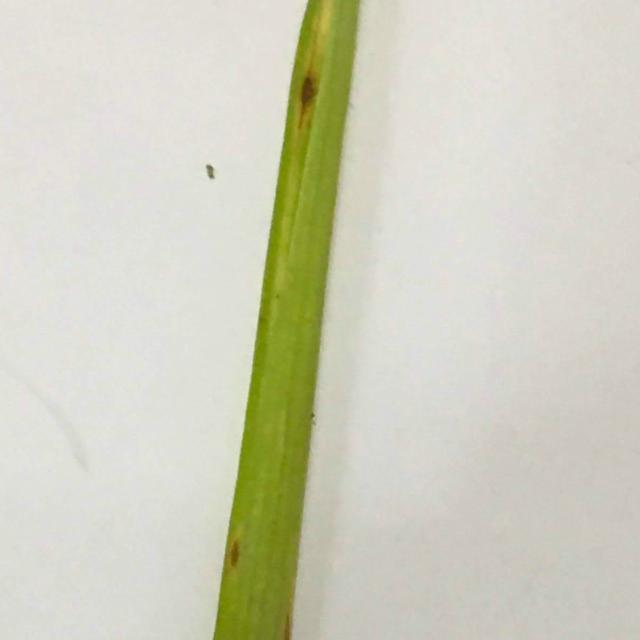Blast: (294, 76, 322, 124), (229, 541, 241, 571)
